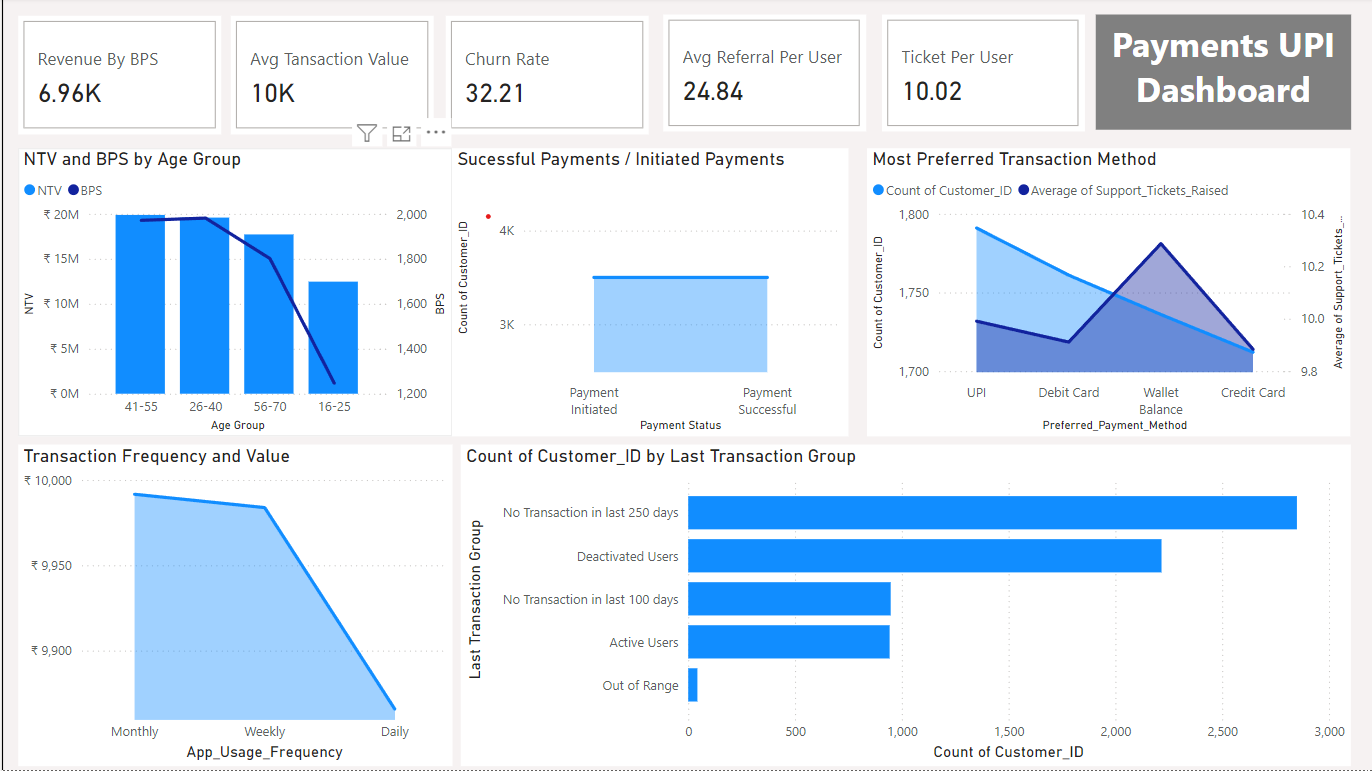

Layout of this report page (visuals, bound fields, positions):
{"tool":"powerbi","page":{"name":"Page 1","canvas":[1280,720],"ordinal":0},"visuals":[{"type":"shape","box":[0,0,1280.3,720.2],"z":0},{"type":"cardVisual","fields":{"Data":["digital_wallet_ltv_dataset.Total Sales"]},"box":[14.8,17.4,189.2,110],"z":1000},{"type":"cardVisual","fields":{"Data":["Avg(digital_wallet_ltv_dataset.Avg_Transaction_Value)"]},"box":[213.3,17.4,189.2,110],"z":2000},{"type":"cardVisual","fields":{"Data":["digital_wallet_ltv_dataset.UTR"]},"box":[413.2,17.4,189.2,110],"z":3000},{"type":"cardVisual","fields":{"Data":["Avg(digital_wallet_ltv_dataset.Referral_Count)"]},"box":[615.6,16.3,188.9,109.1],"z":4000},{"type":"cardVisual","fields":{"Data":["Avg(digital_wallet_ltv_dataset.Support_Tickets_Raised)"]},"box":[819.1,16.3,188.9,109.1],"z":5000},{"type":"lineStackedColumnComboChart","fields":{"Y2":["CountNonNull(digital_wallet_ltv_dataset.BPS )"],"Category":["digital_wallet_ltv_dataset.Age Group"],"Y":["Sum(digital_wallet_ltv_dataset.Avg_Transaction_Value)"]},"box":[14.8,140.9,403.9,268.3],"z":6000},{"type":"areaChart","title":"Sucessful Payments / Initiated Payments","fields":{"Category":["digital_wallet_ltv_dataset.Payment Status"],"Y":["CountNonNull(digital_wallet_ltv_dataset.Customer_ID)"]},"box":[418.6,140.9,369,268.3],"z":6001},{"type":"areaChart","title":"Most Preferred Transaction Method","fields":{"Category":["digital_wallet_ltv_dataset.Preferred_Payment_Method"],"Y":["CountNonNull(digital_wallet_ltv_dataset.Customer_ID)"],"Y2":["Avg(digital_wallet_ltv_dataset.Support_Tickets_Raised)"]},"box":[805,140.9,449.5,268.3],"z":6002},{"type":"areaChart","title":"Transaction Frequency and Value","fields":{"Category":["digital_wallet_ltv_dataset.App_Usage_Frequency"],"Y":["Avg(digital_wallet_ltv_dataset.Avg_Transaction_Value)"]},"box":[14.8,415.9,403.9,299.2],"z":6003},{"type":"barChart","fields":{"Category":["digital_wallet_ltv_dataset.Last Transaction Group"],"Y":["CountNonNull(digital_wallet_ltv_dataset.Customer_ID)"]},"box":[426.7,415.9,827.8,299.2],"z":6004},{"type":"textbox","box":[1017,16.1,237.5,107.3],"z":6006}]}

Visuals, with their boxes in screenshot pixels (x1, y1, x2, y2), scaled from the page's 1280x720 canvas onto the 1372x771 screenshot:
shape: [0,0,1371,770]
cardVisual - digital_wallet_ltv_dataset.Total Sales: [16,19,219,136]
cardVisual - Avg(digital_wallet_ltv_dataset.Avg_Transaction_Value): [229,19,431,136]
cardVisual - digital_wallet_ltv_dataset.UTR: [443,19,646,136]
cardVisual - Avg(digital_wallet_ltv_dataset.Referral_Count): [660,17,862,134]
cardVisual - Avg(digital_wallet_ltv_dataset.Support_Tickets_Raised): [878,17,1080,134]
lineStackedColumnComboChart - CountNonNull(digital_wallet_ltv_dataset.BPS ) x digital_wallet_ltv_dataset.Age Group: [16,151,449,438]
"Sucessful Payments / Initiated Payments" areaChart: [449,151,844,438]
"Most Preferred Transaction Method" areaChart: [863,151,1345,438]
"Transaction Frequency and Value" areaChart: [16,445,449,766]
barChart - digital_wallet_ltv_dataset.Last Transaction Group x CountNonNull(digital_wallet_ltv_dataset.Customer_ID): [457,445,1345,766]
textbox: [1090,17,1345,132]
